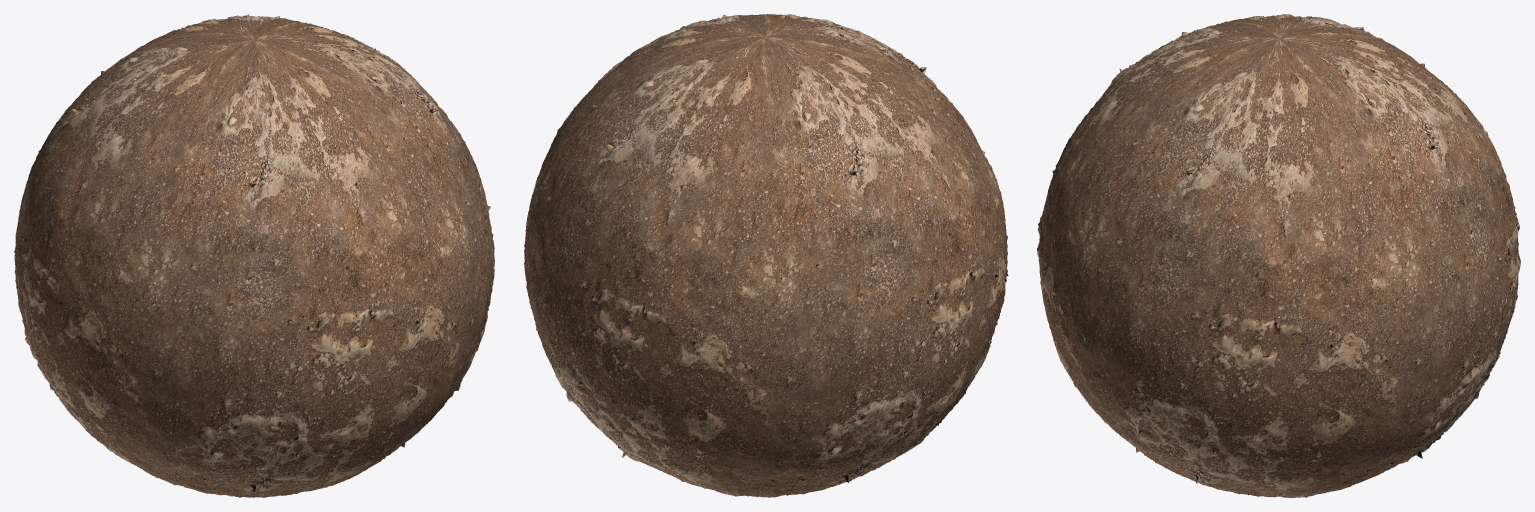
Rendered from coral_gravel_2k.gltf.
3 views of the same model, side by side, from view 1: azimuth 30°, elevation 25°; view 2: azimuth 150°, elevation 25°; view 3: azimuth 270°, elevation 25° (orthographic).
Visible parts, largest first — view 1: sphere_gltf; view 2: sphere_gltf; view 3: sphere_gltf.
Boxes of the visible parts, x1,y1,x2,y2 form: sphere_gltf: (14,14,494,497); sphere_gltf: (523,14,1008,497); sphere_gltf: (1037,14,1520,497).
Size of the model in its own units: 2.02 by 2.01 by 2.02.
1 material, 1 textured.
